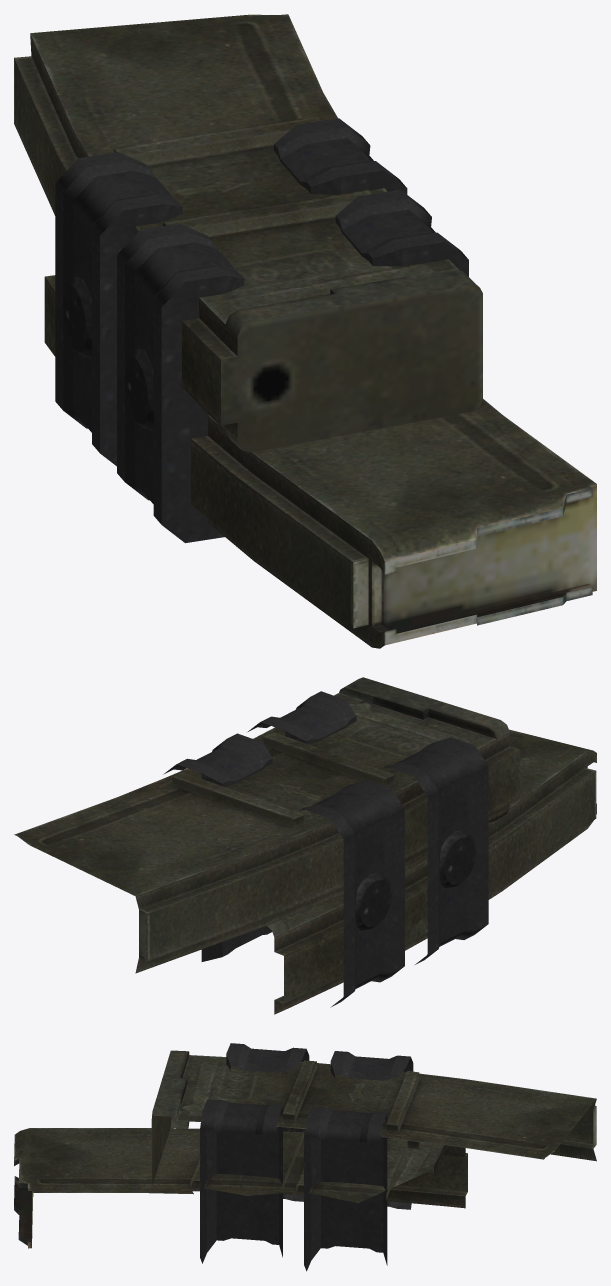
The model's file is t6_attach_fastmag_sig556_view_LOD0.obj.
3 renders of one model, top to bottom at view 1: azimuth 30°, elevation 25°; view 2: azimuth 150°, elevation 25°; view 3: azimuth 270°, elevation 25°, orthographic. The views are drawn at different scales.
Visible parts, largest first — view 1: mtl_t6_wpn_ar_sig556_camo1, mtl_t6_wpn_ar_sig556_camo3; view 2: mtl_t6_wpn_ar_sig556_camo1, mtl_t6_wpn_ar_sig556_camo3; view 3: mtl_t6_wpn_ar_sig556_camo1, mtl_t6_wpn_ar_sig556_camo3.
Part boxes in pixels (<box>): mtl_t6_wpn_ar_sig556_camo1: <box>14,14,596,648</box>; mtl_t6_wpn_ar_sig556_camo3: <box>44,116,435,628</box>; mtl_t6_wpn_ar_sig556_camo1: <box>14,677,596,1014</box>; mtl_t6_wpn_ar_sig556_camo3: <box>172,704,596,1003</box>; mtl_t6_wpn_ar_sig556_camo1: <box>14,1043,596,1271</box>; mtl_t6_wpn_ar_sig556_camo3: <box>190,1048,467,1206</box>.
Size of the model in its own units: 11.41 by 7.28 by 25.1.
